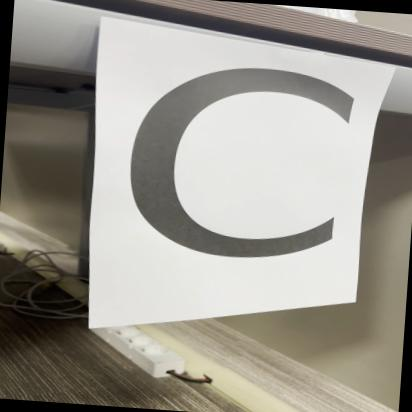seat: (86, 35, 376, 310)
